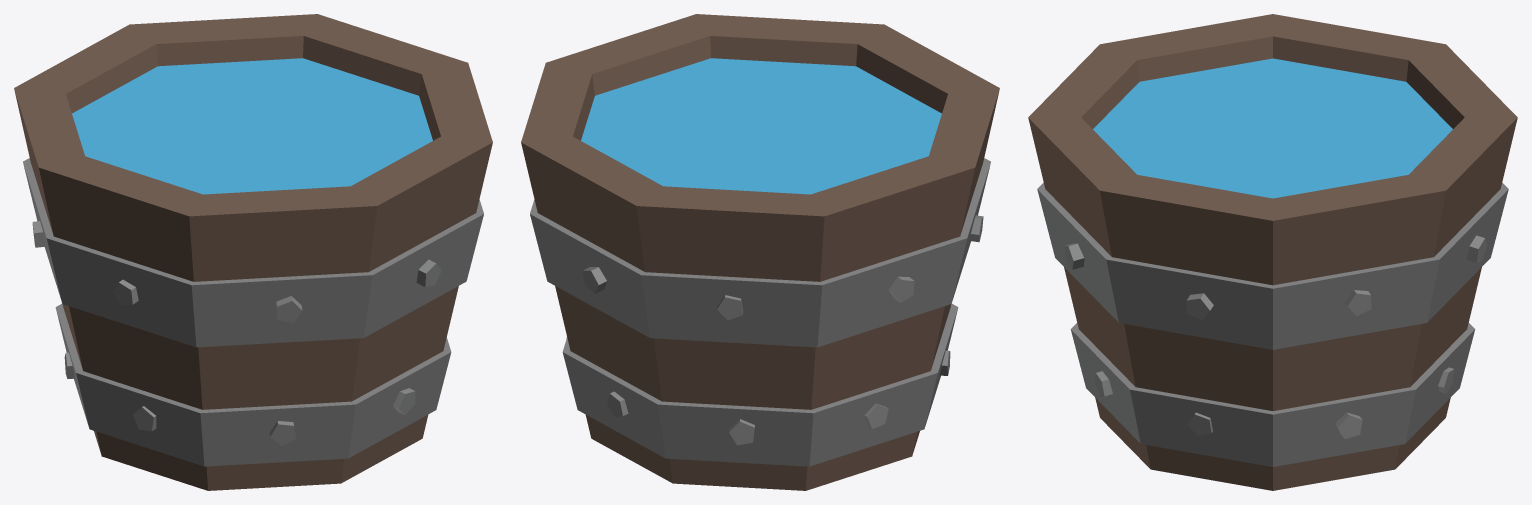
File: Bucket_Full_Greybox.fbx
The picture shows the model from 3 angles, left to right: view 1: azimuth 30°, elevation 25°; view 2: azimuth 150°, elevation 25°; view 3: azimuth 270°, elevation 25°; orthographic projection.
Visible parts, largest first — view 1: Bucket_Full; view 2: Bucket_Full; view 3: Bucket_Full.
Part boxes in pixels (<box>): Bucket_Full: <box>14,14,492,490</box>; Bucket_Full: <box>521,14,999,490</box>; Bucket_Full: <box>1028,14,1517,490</box>.
Size of the model in its own units: 0.9898 by 0.6701 by 0.9898.
